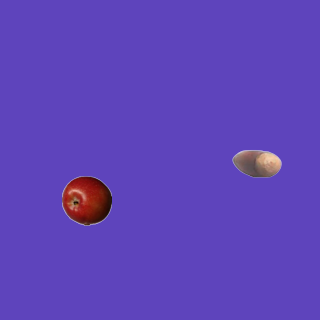Apple Braeburn: (61, 175, 111, 225)
Hazelnut: (231, 138, 281, 188)
